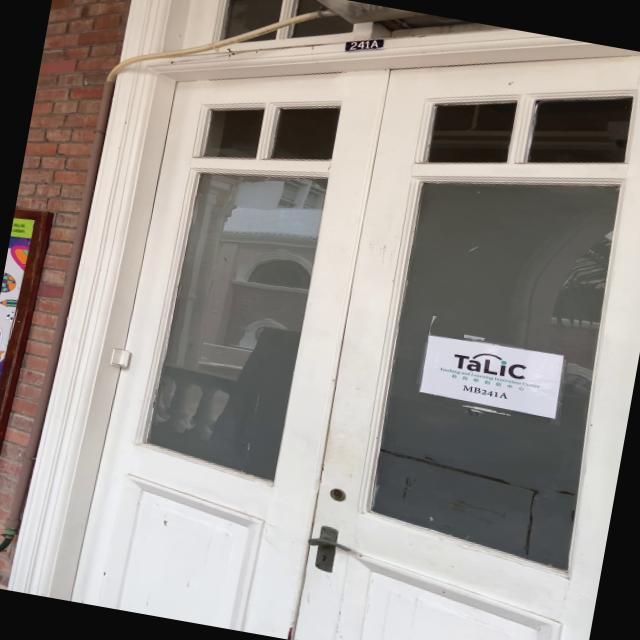room241a: (341, 32, 387, 59)
